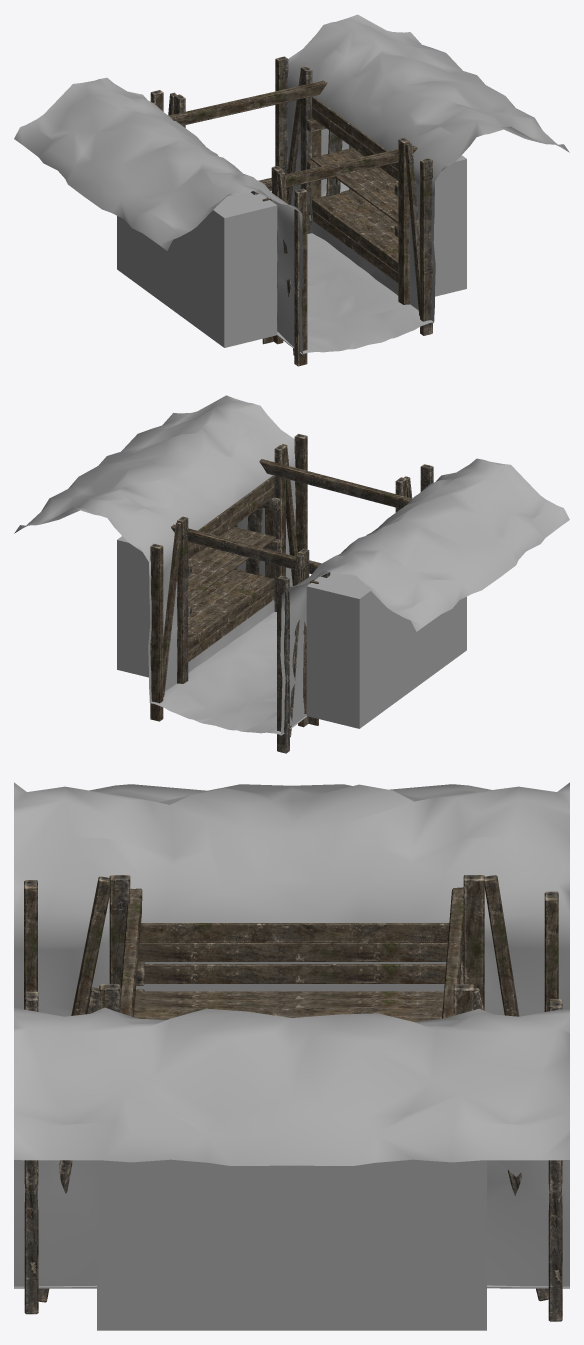
File: Ground_Bed_Double_Wood.fbx
3 views of the same model, one above another, from view 1: azimuth 30°, elevation 25°; view 2: azimuth 150°, elevation 25°; view 3: azimuth 270°, elevation 25° (orthographic). The views are drawn at different scales.
Parts seen in each view (by area): view 1: Ground_Bed_Double_Wood_LOD0; view 2: Ground_Bed_Double_Wood_LOD0; view 3: Ground_Bed_Double_Wood_LOD0.
Part boxes in pixels (x1,y1,x2,y2): Ground_Bed_Double_Wood_LOD0: (14,14,569,366); Ground_Bed_Double_Wood_LOD0: (14,395,569,753); Ground_Bed_Double_Wood_LOD0: (14,782,569,1330).
Size of what is drawn, in the model's own units: 627 by 284 by 400.
